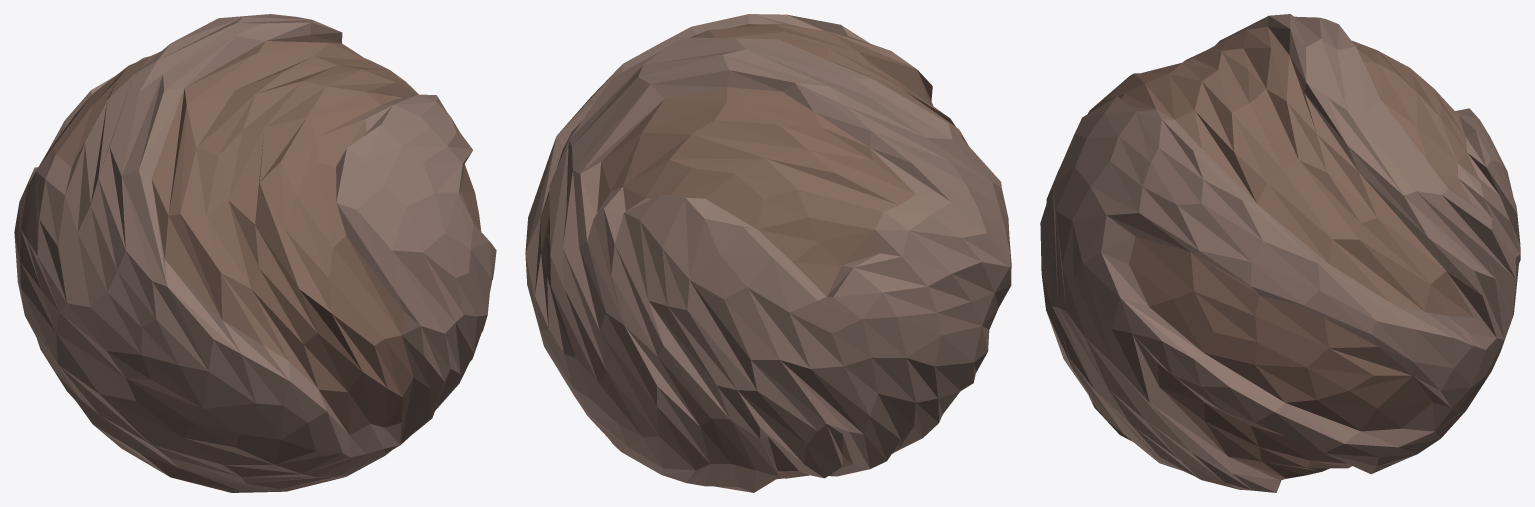
File: Pluton.glb
3 renders of one model, left to right at view 1: azimuth 30°, elevation 25°; view 2: azimuth 150°, elevation 25°; view 3: azimuth 270°, elevation 25°, orthographic.
Visible parts, largest first — view 1: Pluto; view 2: Pluto; view 3: Pluto.
Part boxes in pixels (x1=…): Pluto: x1=14, y1=14, x2=496, y2=492; Pluto: x1=525, y1=14, x2=1011, y2=492; Pluto: x1=1040, y1=14, x2=1520, y2=492.
Size of the model in its own units: 100 by 100 by 100.
1 material, 1 textured.
